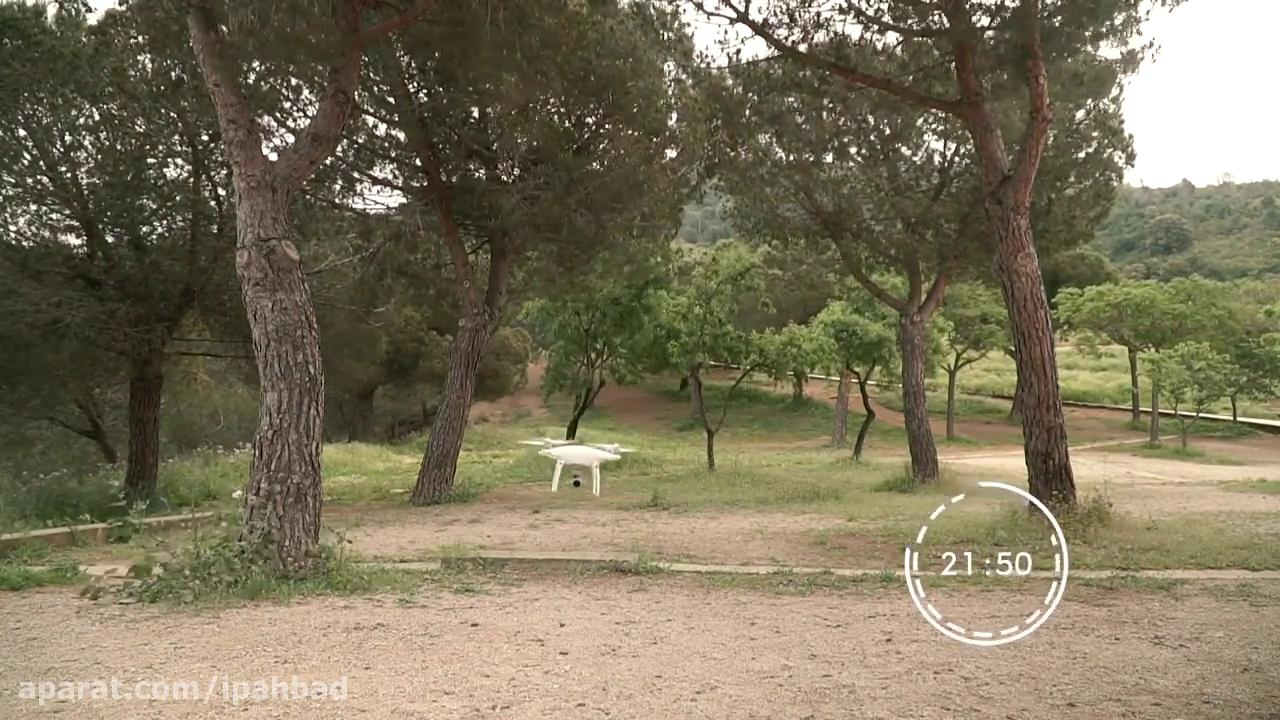drone: (513, 435, 640, 495)
